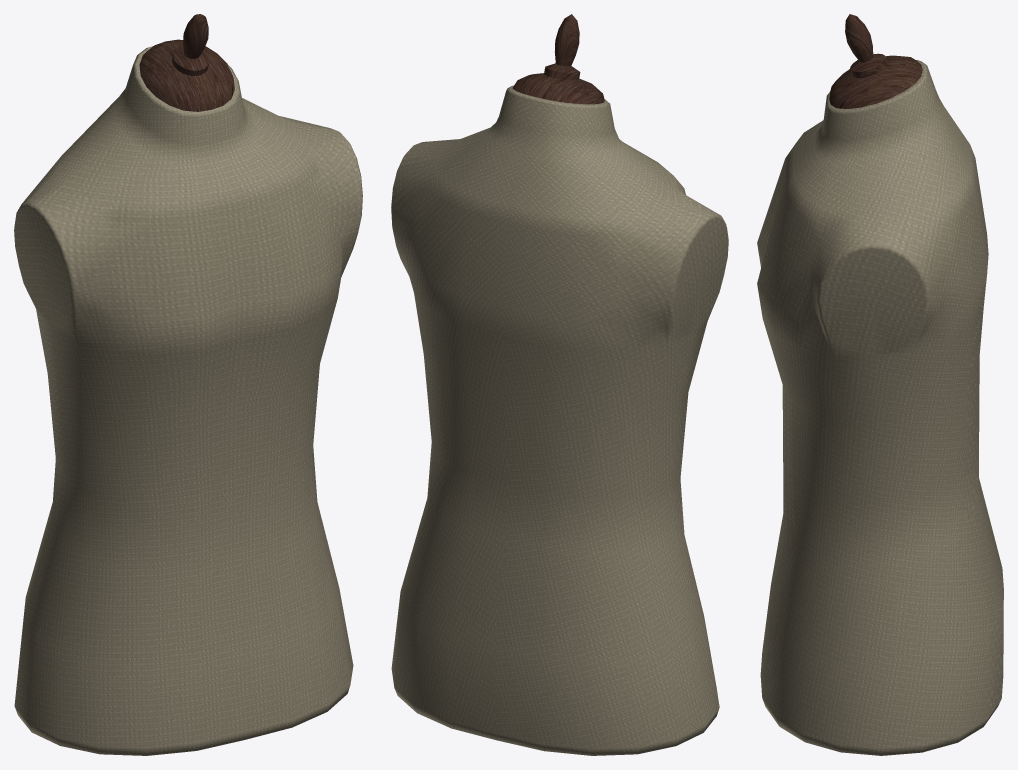
Rendered from male_torso.glb.
3 views of the same model, side by side, from view 1: azimuth 30°, elevation 25°; view 2: azimuth 150°, elevation 25°; view 3: azimuth 270°, elevation 25° (orthographic). The views are drawn at different scales.
Visible parts, largest first — view 1: pCylinder11; view 2: pCylinder11; view 3: pCylinder11.
Part boxes in pixels (x1,y1,x2,y2): pCylinder11: (14, 14, 362, 755); pCylinder11: (391, 14, 728, 755); pCylinder11: (757, 14, 1003, 755).
Bounding box in the file's own units: 42.55 × 91.01 × 30.3.
Materials: 1 (1 with a texture image).
